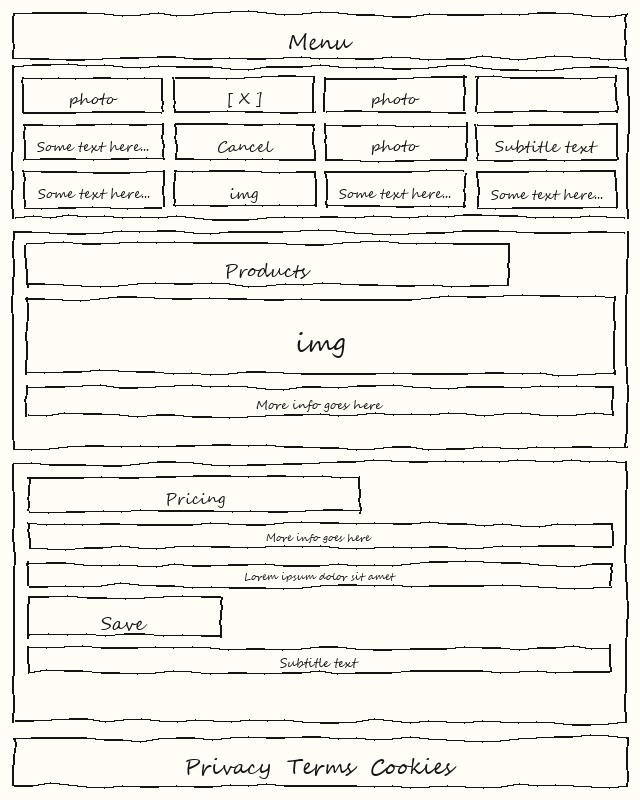card: (27, 298, 613, 373), (27, 244, 509, 286), (27, 387, 613, 415), (29, 646, 611, 673), (29, 523, 611, 547), (29, 563, 611, 586), (29, 478, 360, 512), (29, 597, 220, 637), (24, 124, 163, 160), (175, 124, 314, 160), (326, 124, 465, 160), (477, 124, 616, 160), (24, 77, 163, 112), (175, 77, 314, 112), (326, 77, 465, 112), (477, 77, 616, 112), (24, 172, 163, 207), (175, 172, 314, 207), (326, 172, 465, 207), (477, 172, 616, 207)
footer: (14, 738, 626, 786)
navbar: (14, 14, 626, 59)
section: (14, 463, 626, 722), (14, 231, 626, 449), (14, 67, 626, 217)
